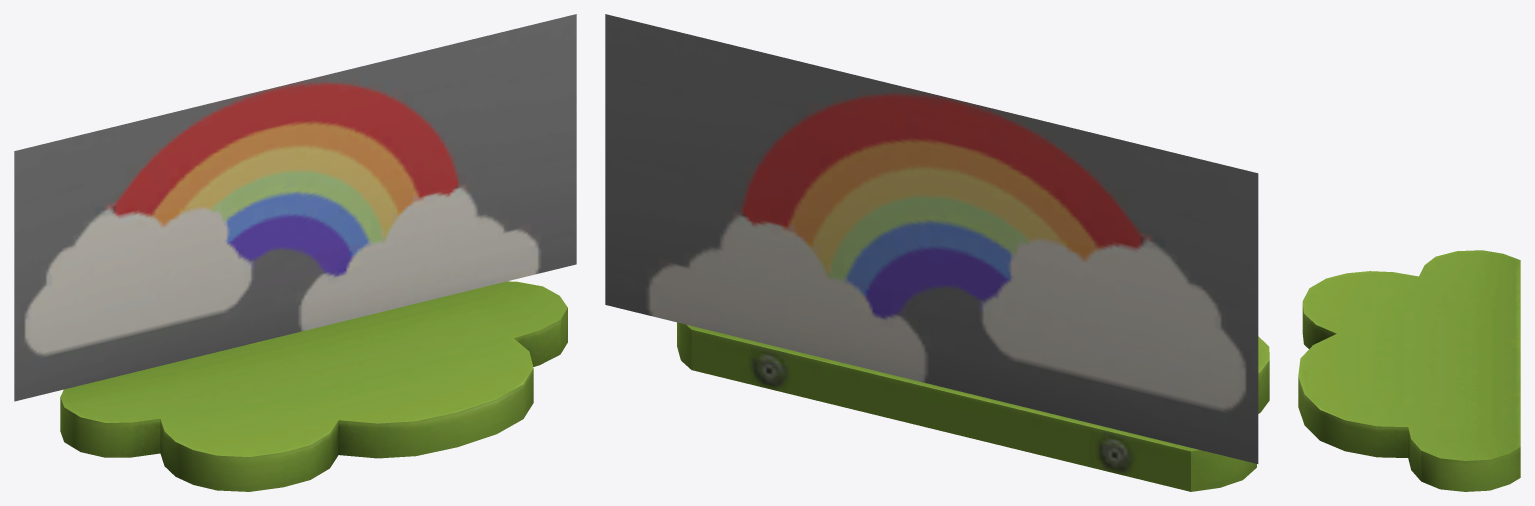
Rendered from estanteArcoiris.fbx.
3 views of the same model, side by side, from view 1: azimuth 30°, elevation 25°; view 2: azimuth 150°, elevation 25°; view 3: azimuth 270°, elevation 25° (orthographic). The views are drawn at different scales.
Parts seen in each view (by area): view 1: s4studio_mesh_1; view 2: s4studio_mesh_1; view 3: s4studio_mesh_1.
Boxes of the visible parts, x1,y1,x2,y2 form: s4studio_mesh_1: (14,14,576,491); s4studio_mesh_1: (605,14,1269,491); s4studio_mesh_1: (1298,250,1520,491).
Size of the model in its own units: 85 by 41.21 by 32.78.
1 material, 1 textured.
